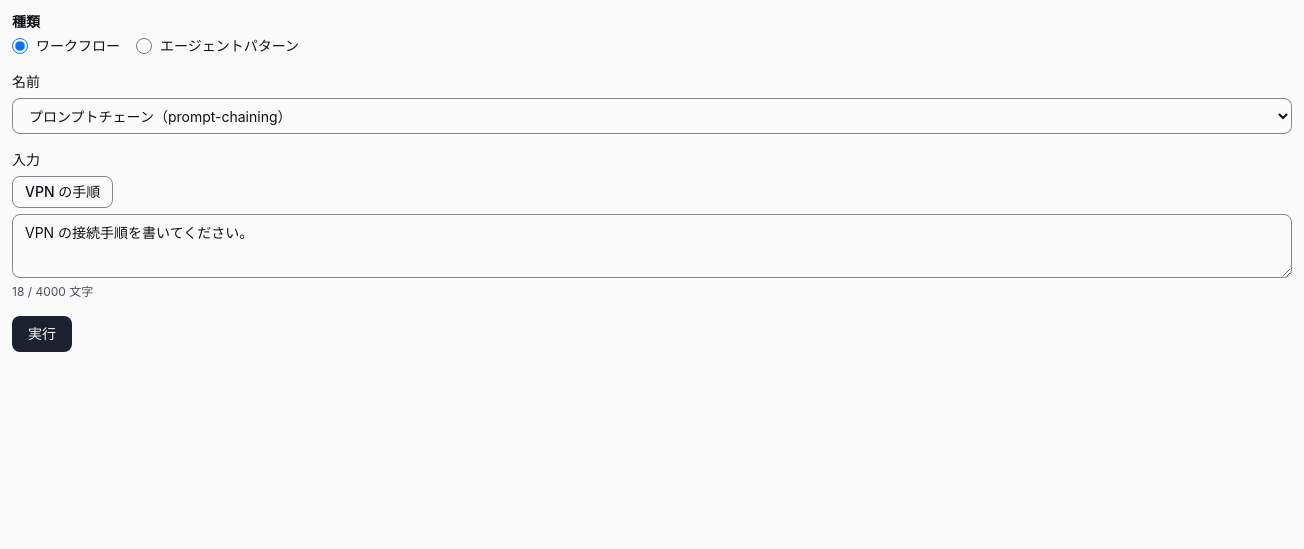
WorkflowPanel errors › shows the server's message when the request is rejected
Click the button "実行". click: [42, 334]
box: [12,316,72,352]
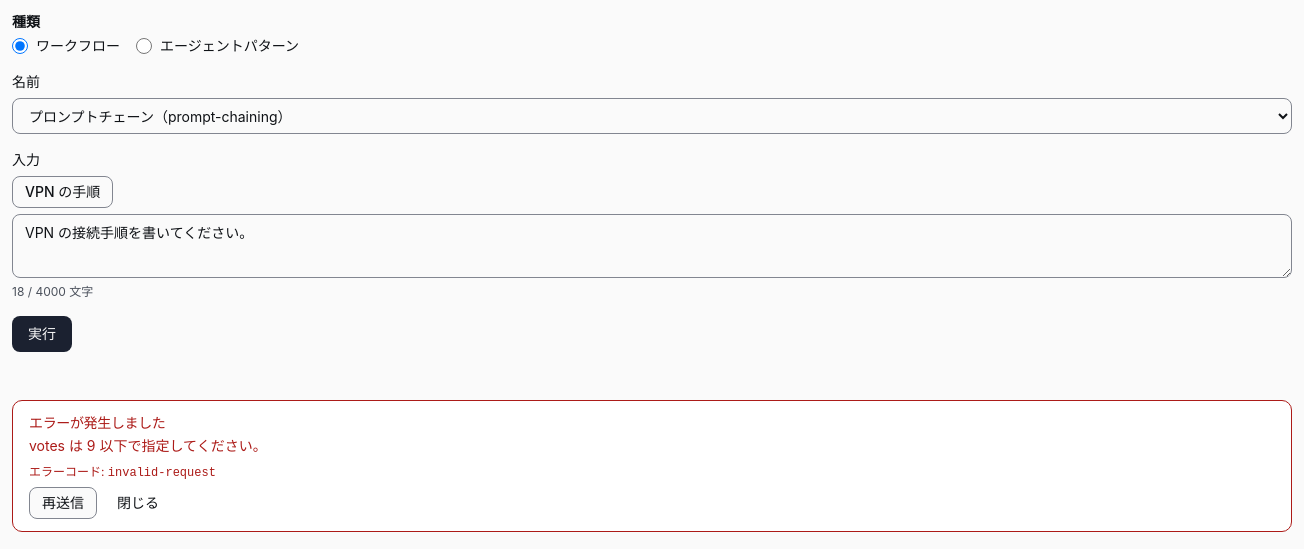
expect the message shows "votes は 9 以下で指定してください。": met, box [29,437,267,454]
